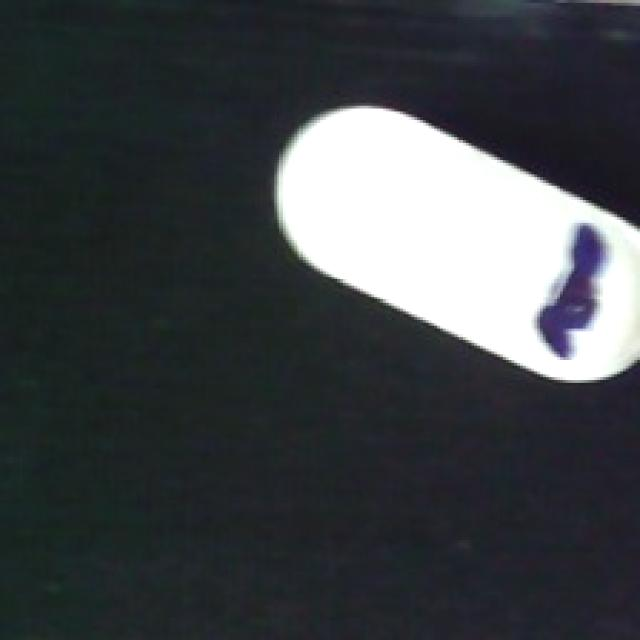defected: (269, 100, 640, 380)
